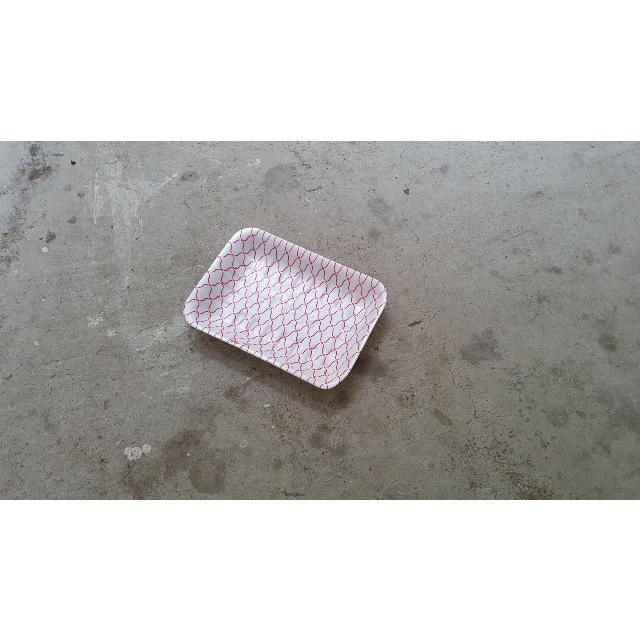Recipiente plastico: (184, 228, 386, 388)
